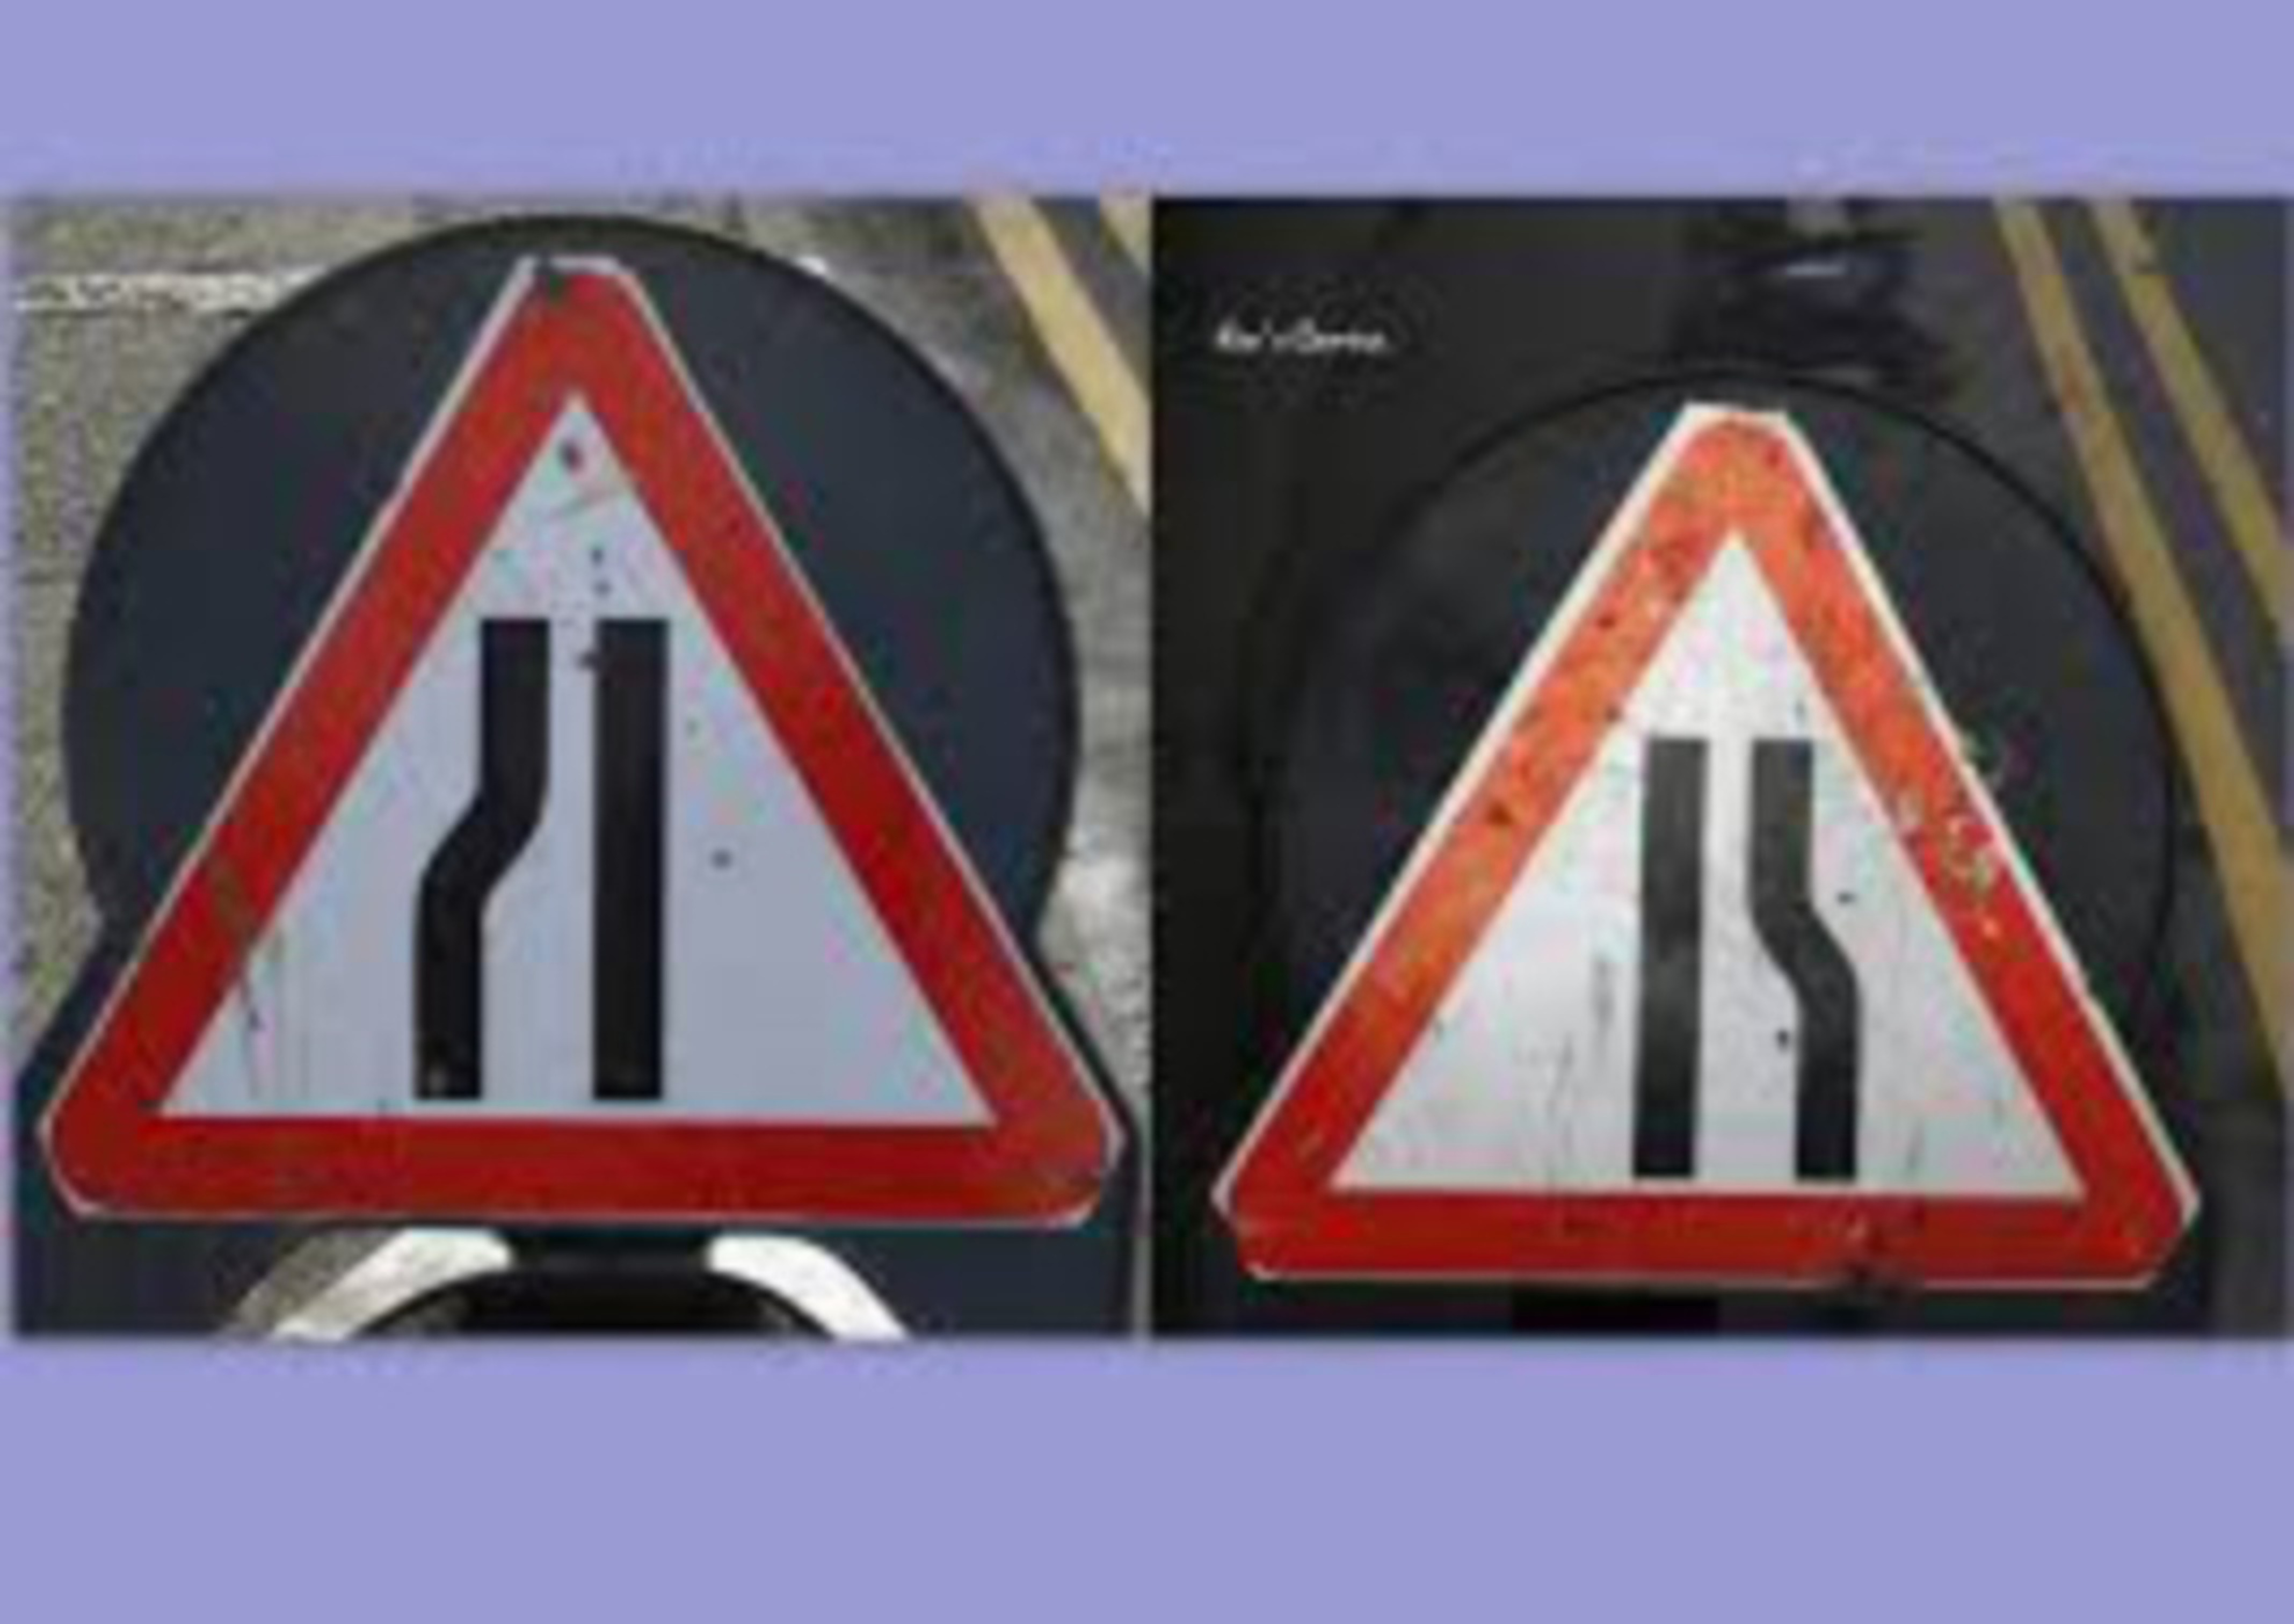Narrow_road: (61, 248, 1121, 1244), (1221, 371, 2183, 1302)
